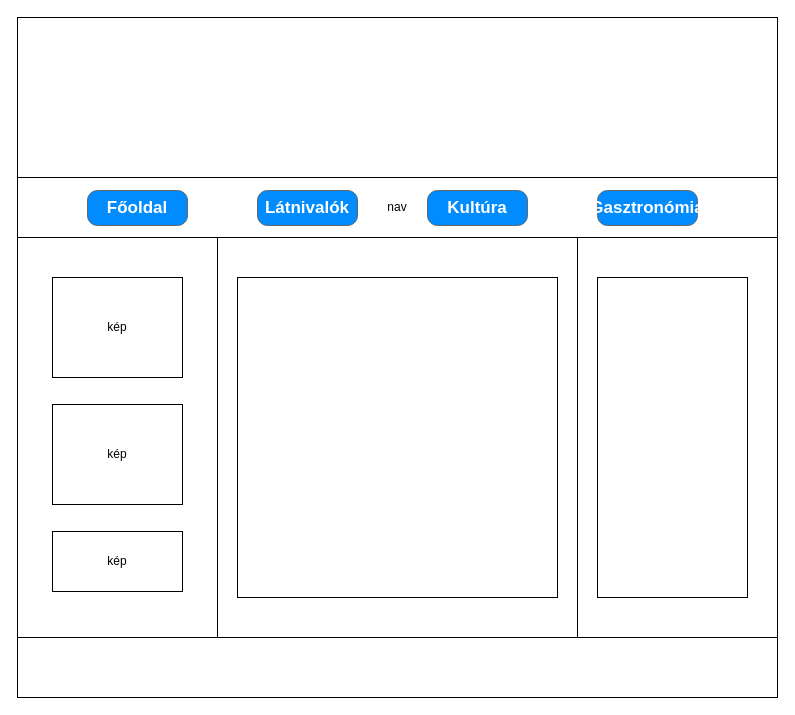
Some shapes in this 795 by 715 pixel diagram are drawn without their labels. The shapes that lost their labels are listed below. From the top down, each one's centre as x and y in pixels, then its label:
At point (397, 97): "header".
At point (397, 437): "szöveg".
At point (672, 437): "adatok, linkek".
At point (397, 667): "footer".
